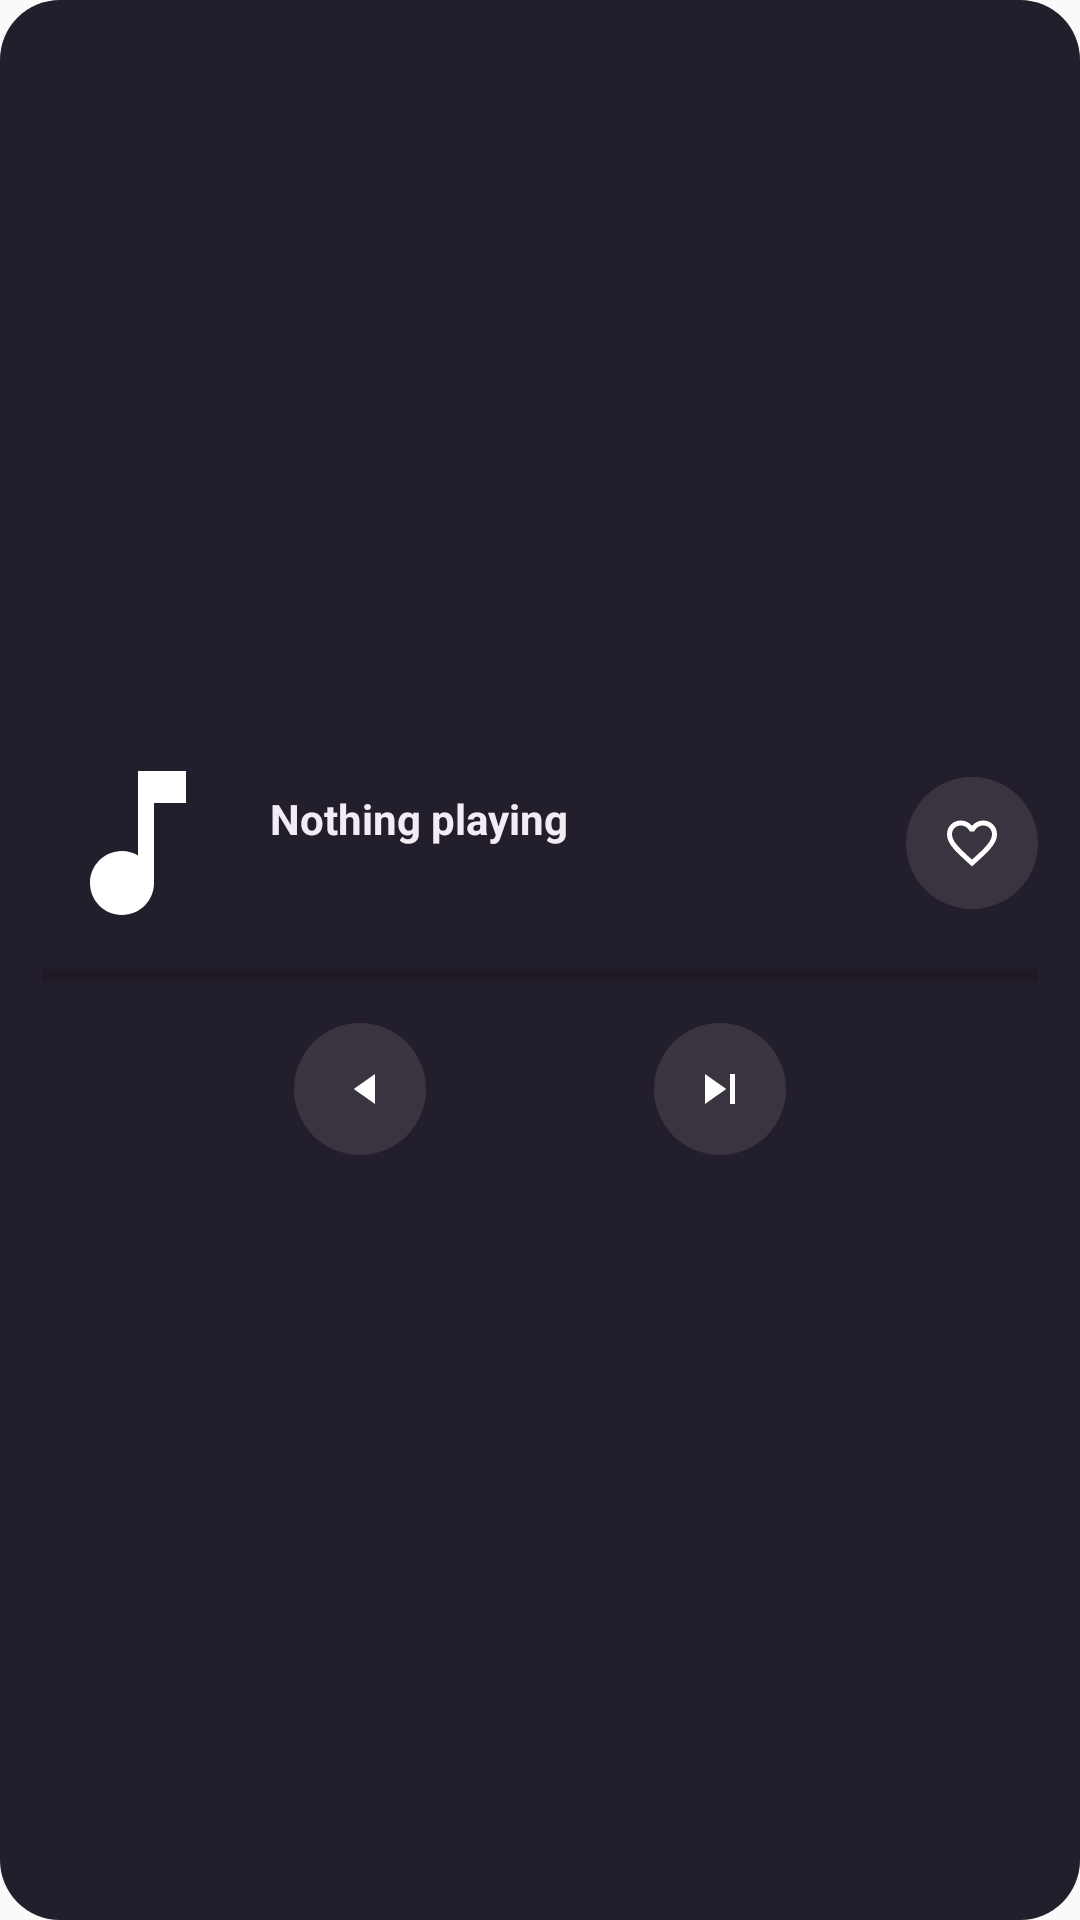

Named icons in this screenshot (1080x1920) and their centers, (x,y):
widget heart: (972,843)
widget next: (720,1089)
widget note: (138,843)
widget prev: (364,1089)
